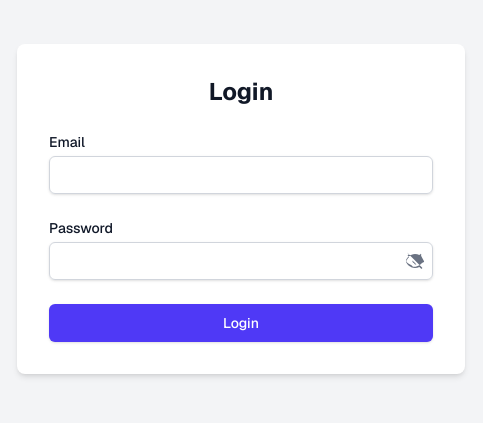
Test: LoginPage › should show email validation error when email is empty
Click the button "Login" at (241, 323), box [49,304,433,342]
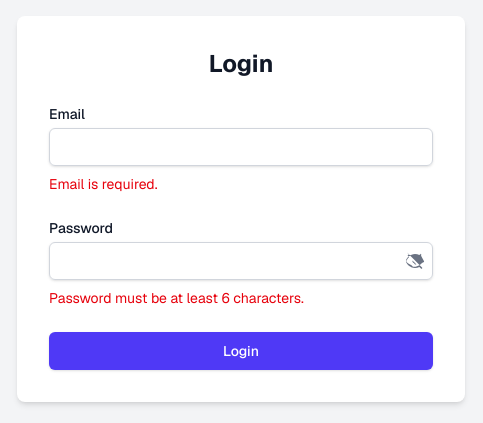
Expected: the text "Email is required." is shown, [49,175,158,193]
